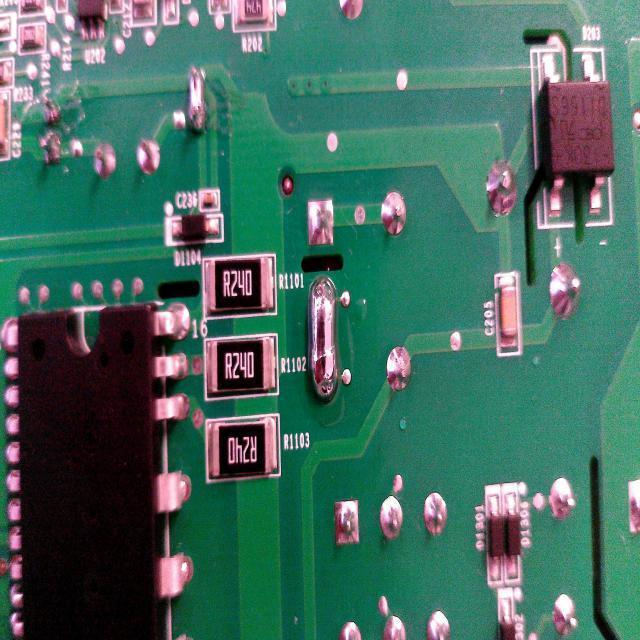Soldering shorted: (303, 274, 345, 406), (186, 60, 207, 143)
